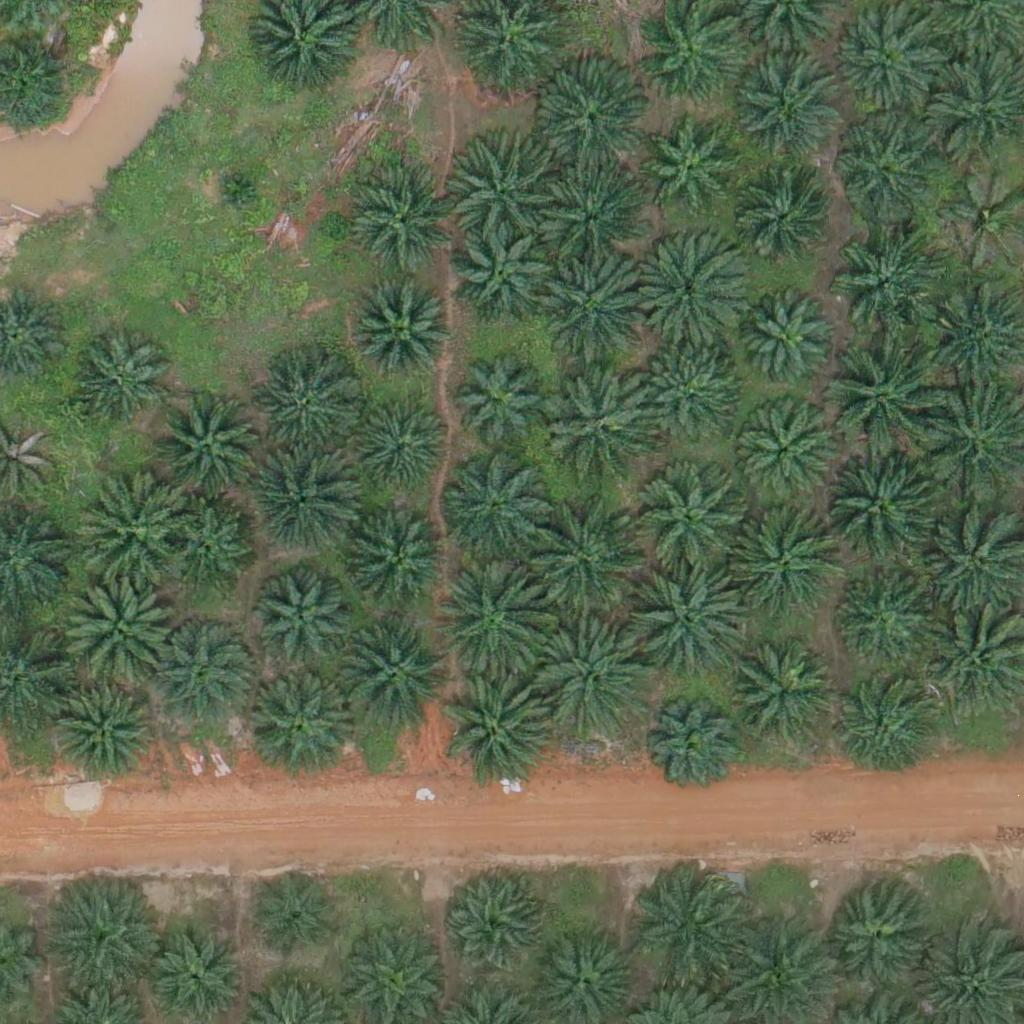Kelapa_Sawit: (824, 448, 937, 562), (631, 232, 744, 346), (540, 248, 653, 362), (534, 625, 647, 739), (431, 565, 544, 679), (247, 666, 360, 780), (334, 618, 447, 732), (628, 875, 741, 988), (823, 342, 936, 455), (726, 506, 839, 619), (636, 467, 749, 580), (545, 366, 658, 479), (246, 445, 359, 558), (819, 880, 931, 994), (46, 873, 158, 987), (438, 449, 550, 563), (829, 221, 941, 334), (728, 643, 840, 756), (638, 564, 750, 677), (538, 70, 650, 183), (527, 499, 639, 612), (443, 676, 555, 789), (449, 126, 561, 239), (151, 389, 263, 502), (74, 472, 186, 585), (61, 570, 173, 683), (830, 7, 930, 108), (832, 119, 932, 220), (836, 572, 936, 673), (833, 681, 933, 782), (738, 64, 838, 165), (733, 404, 833, 505), (639, 119, 739, 220), (450, 354, 550, 455), (451, 224, 551, 325), (252, 575, 352, 676), (153, 619, 253, 720), (67, 330, 167, 431), (442, 874, 542, 974), (147, 920, 247, 1020), (730, 178, 830, 278), (641, 351, 741, 451), (541, 167, 641, 267), (352, 175, 452, 275), (353, 284, 453, 384), (353, 400, 453, 500), (349, 516, 449, 616), (255, 360, 355, 460), (52, 682, 152, 782), (743, 298, 831, 387), (251, 870, 339, 958), (163, 503, 251, 591), (646, 705, 733, 793), (210, 162, 260, 213)
